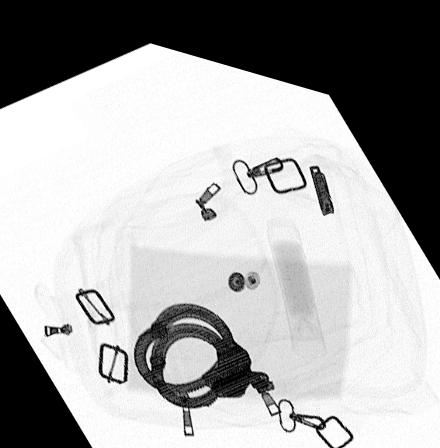HandCuffs: (131, 290, 356, 433)
